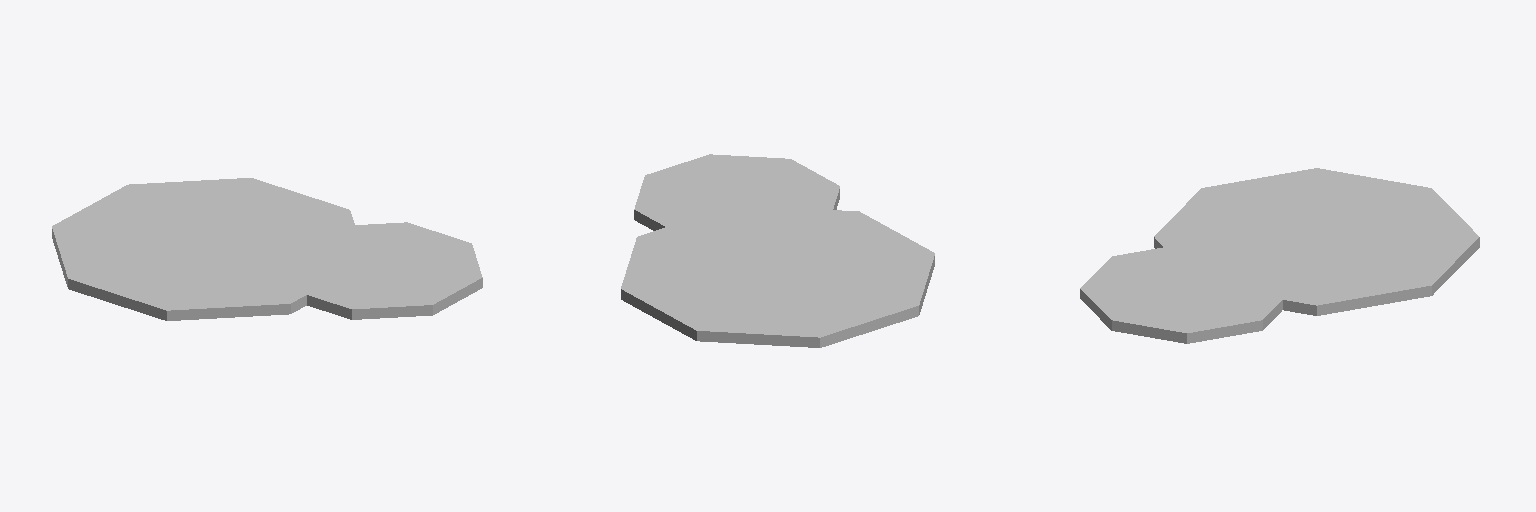
The model's file is puddle_1_collider.obj.
3 renders of one model, left to right at view 1: azimuth 30°, elevation 25°; view 2: azimuth 150°, elevation 25°; view 3: azimuth 270°, elevation 25°, orthographic.
Parts seen in each view (by area): view 1: Circle.001; view 2: Circle.001; view 3: Circle.001.
Boxes of the visible parts, x1=… form: Circle.001: x1=52, y1=178, x2=482, y2=320; Circle.001: x1=621, y1=154, x2=934, y2=347; Circle.001: x1=1080, y1=168, x2=1479, y2=343.
Bounding box in the file's own units: 3.72 × 0.1109 × 3.8.